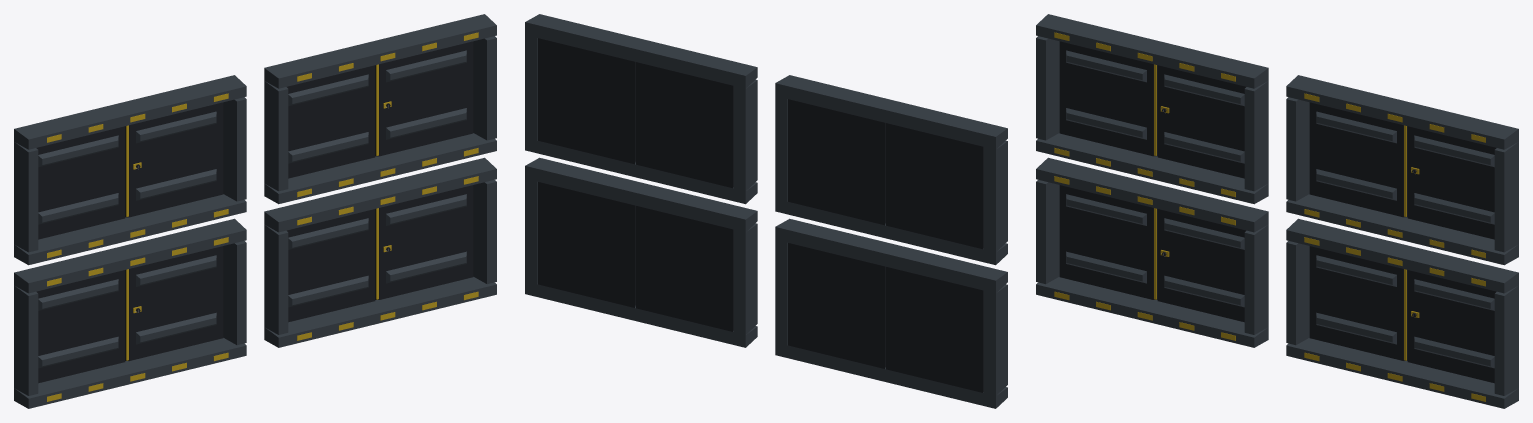
The model's file is ap4_doors.obj.
The picture shows the model from 3 angles, left to right: view 1: azimuth 30°, elevation 25°; view 2: azimuth 150°, elevation 25°; view 3: azimuth 330°, elevation 25°; orthographic projection.
Visible parts, largest first — view 1: ap4_doors; view 2: ap4_doors; view 3: ap4_doors.
Boxes of the visible parts, <box> form: ap4_doors: <box>14,14,496,408</box>; ap4_doors: <box>525,14,1007,408</box>; ap4_doors: <box>1036,14,1518,408</box>.
Size of the model in its own units: 9.6 by 5.3 by 0.473.
